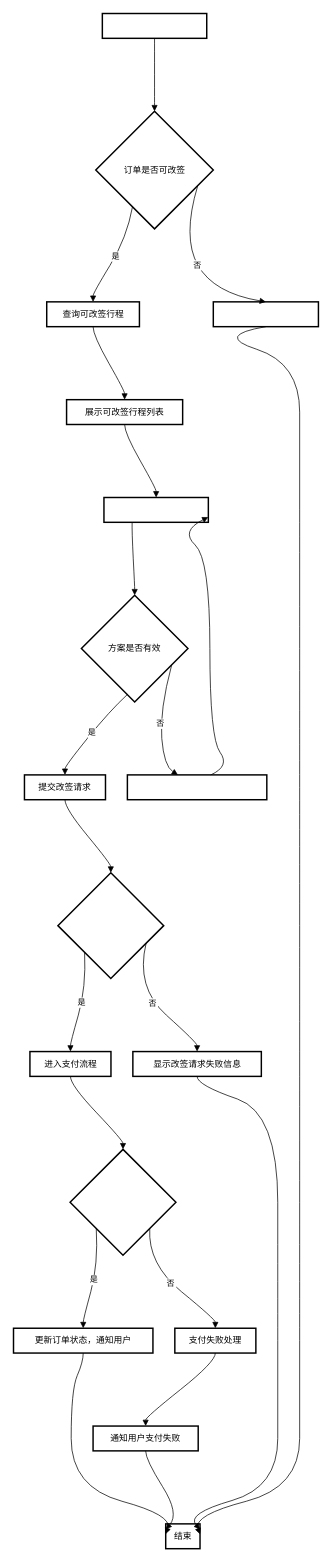
Some shapes in this 331 by 1561 pixel diagram are drawn without their labels. The shapes that lost their labels are listed below. From the top down, each one's box as (x1, y1, x2, y2) in pixels, then its label:
(101, 12, 207, 39): 用户进入改签页面
(212, 301, 319, 327): 显示不可改签信息
(103, 496, 209, 523): 用户选择改签方案
(126, 774, 267, 800): 提示无效方案，重新选择
(57, 872, 164, 979): 请求是否成功
(69, 1148, 176, 1256): 支付是否成功
